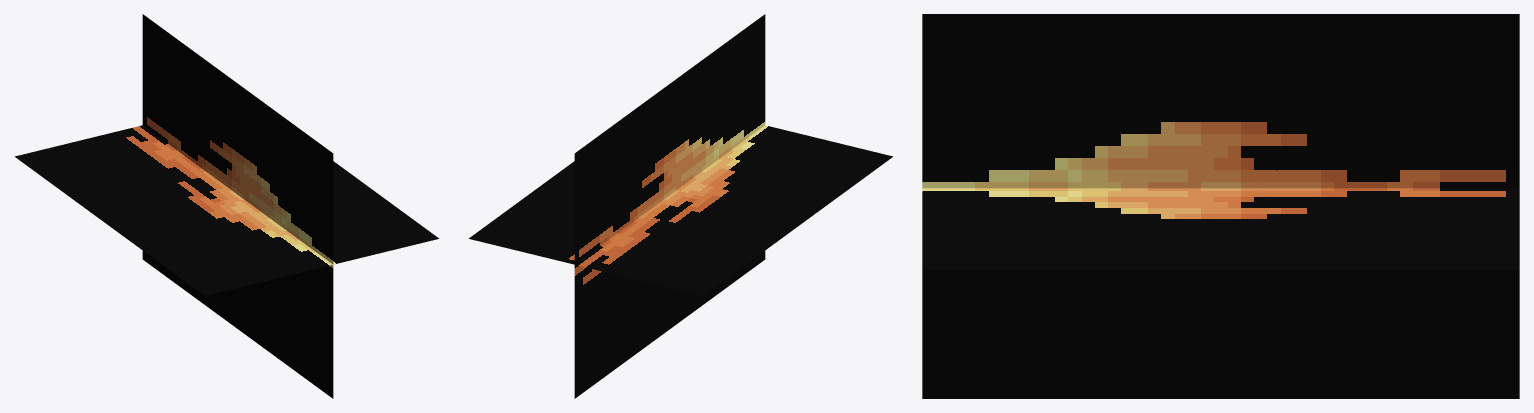
Rendered from dragon_arrow.gltf.
3 views of the same model, side by side, from view 1: azimuth 30°, elevation 25°; view 2: azimuth 150°, elevation 25°; view 3: azimuth 270°, elevation 25° (orthographic). The views are drawn at different scales.
Parts seen in each view (by area): view 1: cube (×2); view 2: cube (×2); view 3: cube (×2).
Boxes of the visible parts, left/top/right/bottom form: cube (×2): left=14, top=14, right=439, bottom=398; cube (×2): left=468, top=14, right=893, bottom=398; cube (×2): left=922, top=14, right=1519, bottom=398.
Size of the model in its own units: 2 by 2 by 2.81.
1 material, 1 textured.
